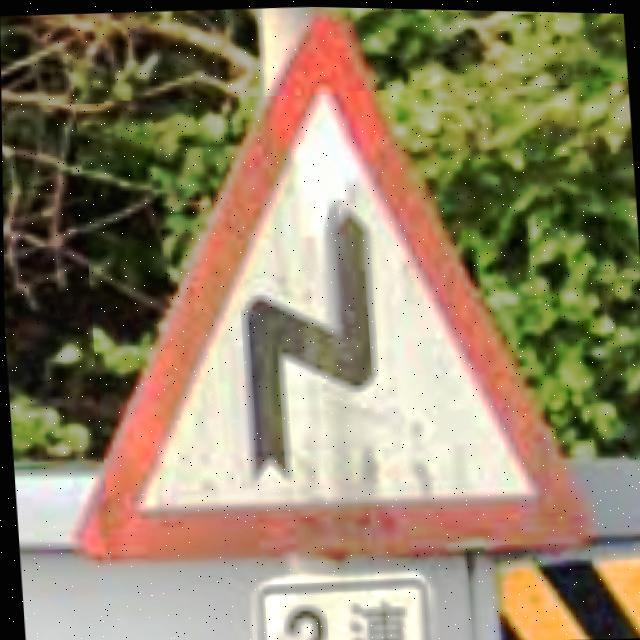doublebendright: (71, 12, 596, 564)
